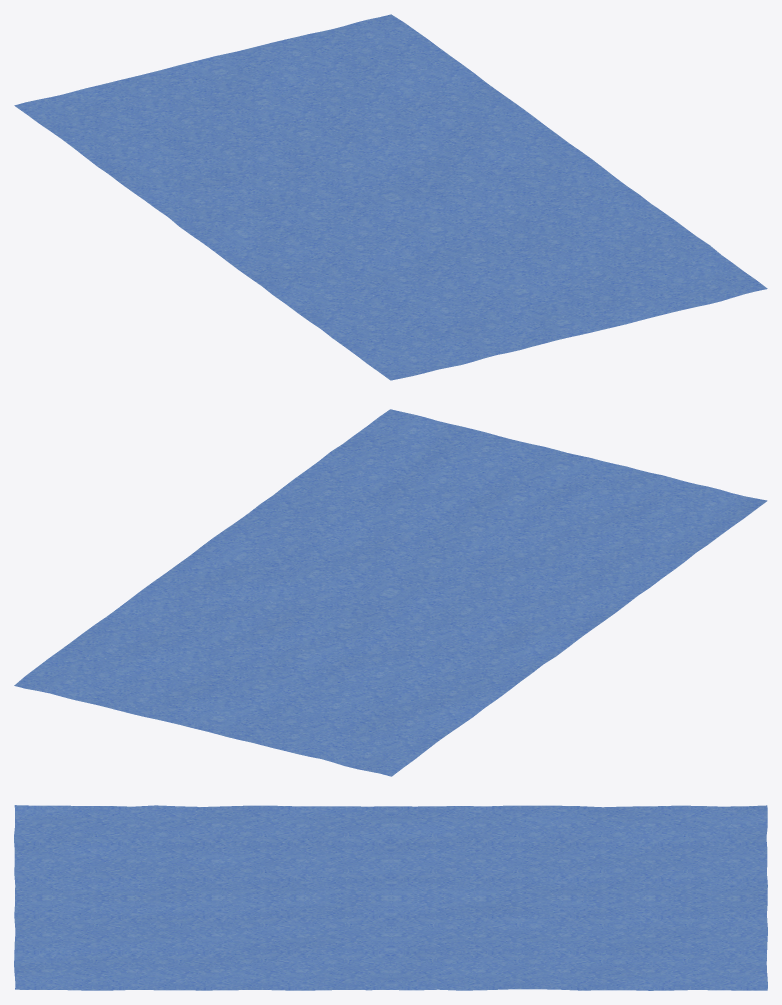
Rendered from plane-water-low.glb.
3 views of the same model, one above another, from view 1: azimuth 30°, elevation 25°; view 2: azimuth 150°, elevation 25°; view 3: azimuth 270°, elevation 25° (orthographic).
Visible parts, largest first — view 1: water; view 2: water; view 3: water.
Part boxes in pixels (bbox=[...]): water: bbox=[14, 14, 767, 380]; water: bbox=[14, 409, 767, 776]; water: bbox=[14, 805, 767, 990].
Size of the model in its own units: 22080 by 110 by 38067.
Materials: 1 (1 with a texture image).
